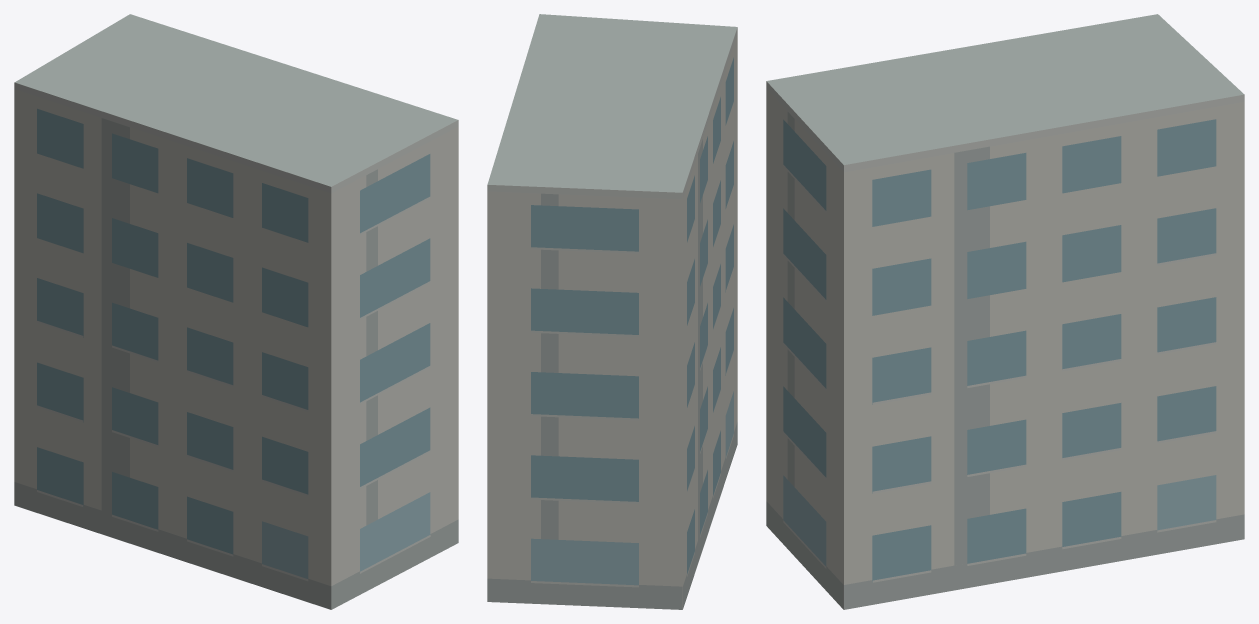
The model's file is survey-upis-32824961.glb.
The picture shows the model from 3 angles, left to right: view 1: azimuth 30°, elevation 25°; view 2: azimuth 150°, elevation 25°; view 3: azimuth 270°, elevation 25°; orthographic projection. The views are drawn at different scales.
Parts seen in each view (by area): view 1: survey-upis-32824961.tmp; view 2: survey-upis-32824961.tmp; view 3: survey-upis-32824961.tmp.
Boxes of the visible parts, x1,y1,x2,y2 form: survey-upis-32824961.tmp: (14,14,458,609); survey-upis-32824961.tmp: (487,14,737,609); survey-upis-32824961.tmp: (766,14,1244,609).
Size of the model in its own units: 11.09 by 15.2 by 14.82.
